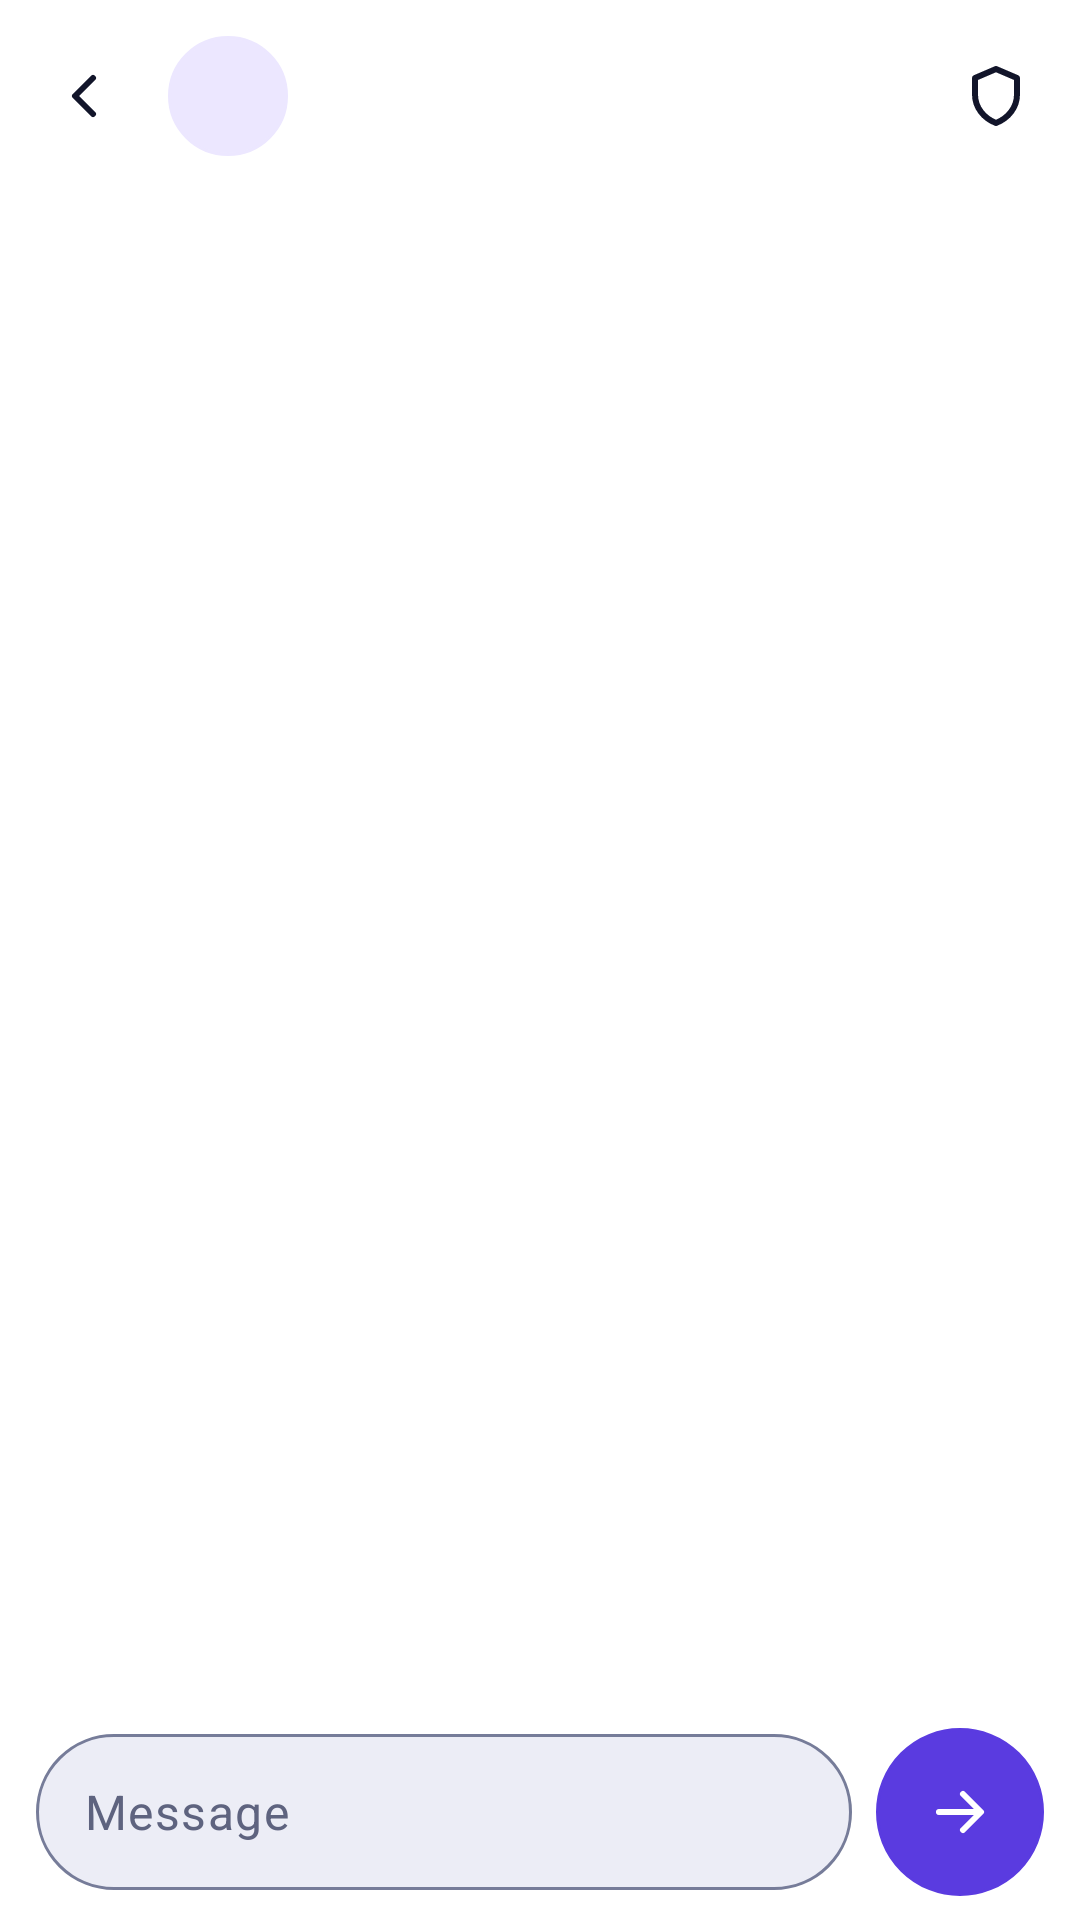

Named icons in this screenshot (1080px x 1920px) and their centers, (x,y):
Back: (84,96)
Safety options: (996,96)
Send: (960,1812)
